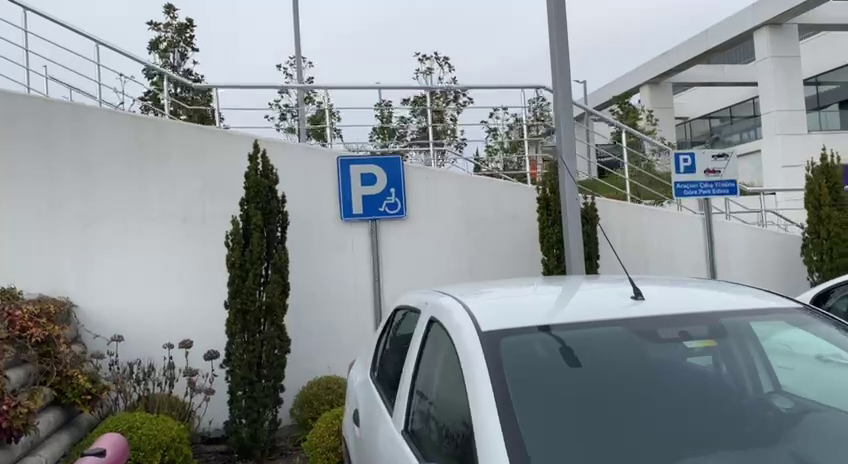parking: (335, 155, 408, 219), (672, 151, 697, 176)
